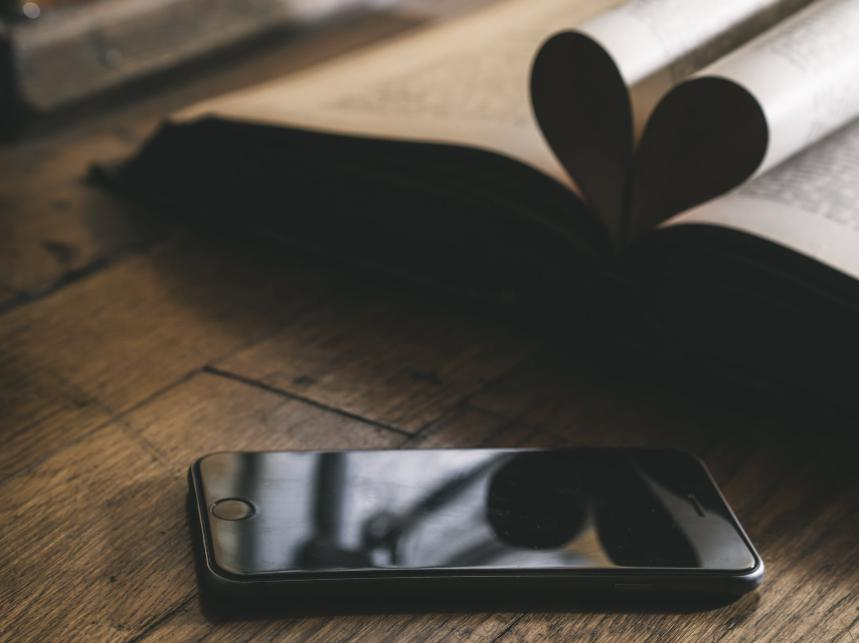mobile: (189, 450, 763, 611)
